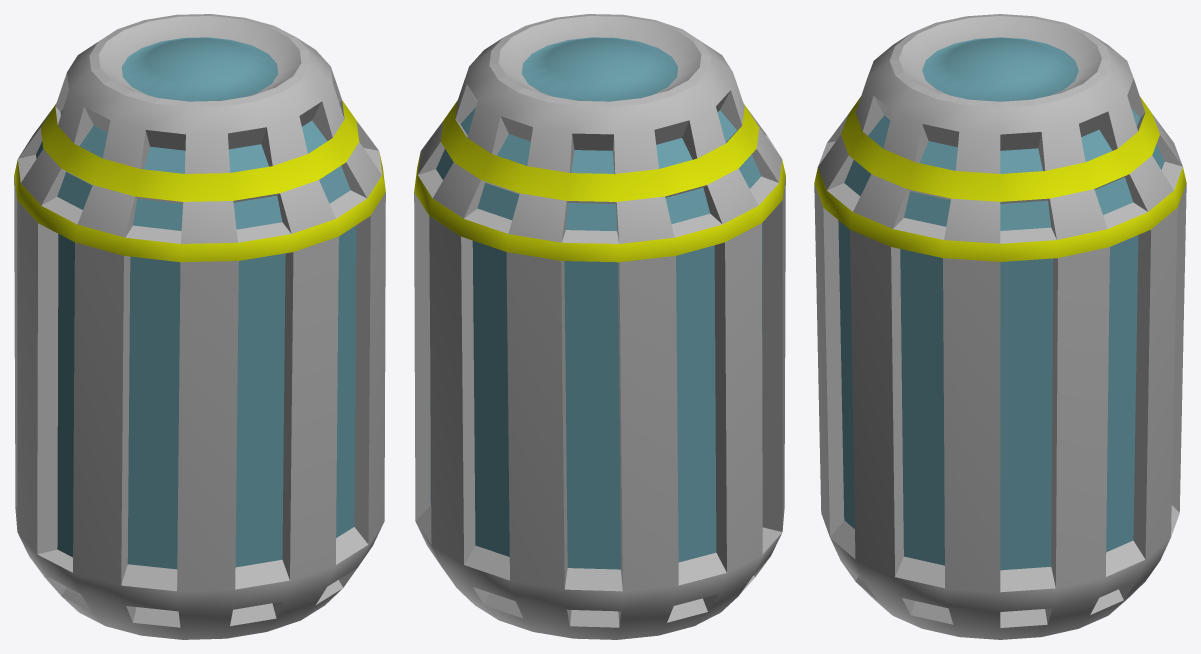
File: BombMODEL.fbx
3 views of the same model, side by side, from view 1: azimuth 30°, elevation 25°; view 2: azimuth 150°, elevation 25°; view 3: azimuth 270°, elevation 25° (orthographic).
Parts seen in each view (by area): view 1: pSphere1; view 2: pSphere1; view 3: pSphere1.
Part boxes in pixels (left/top/right/bottom): pSphere1: left=14, top=14, right=385, bottom=639; pSphere1: left=414, top=14, right=785, bottom=639; pSphere1: left=814, top=14, right=1186, bottom=639.
Bounding box in the file's own units: 2.17 × 3.42 × 2.16.
